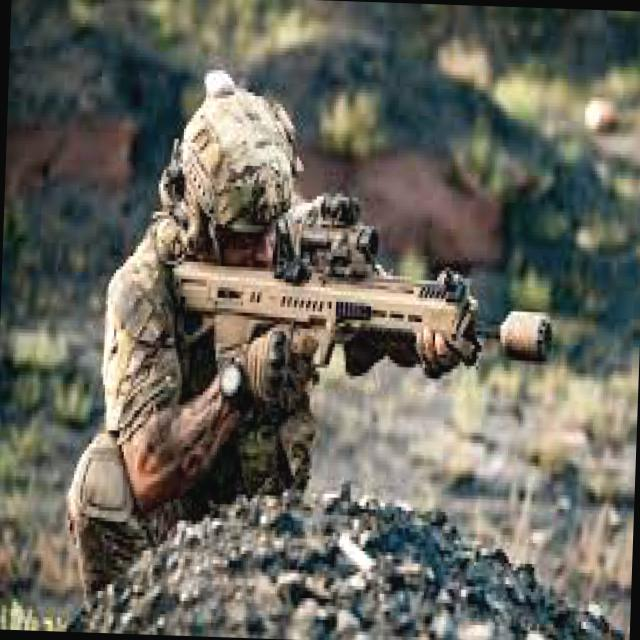long weapon: (167, 208, 572, 406)
